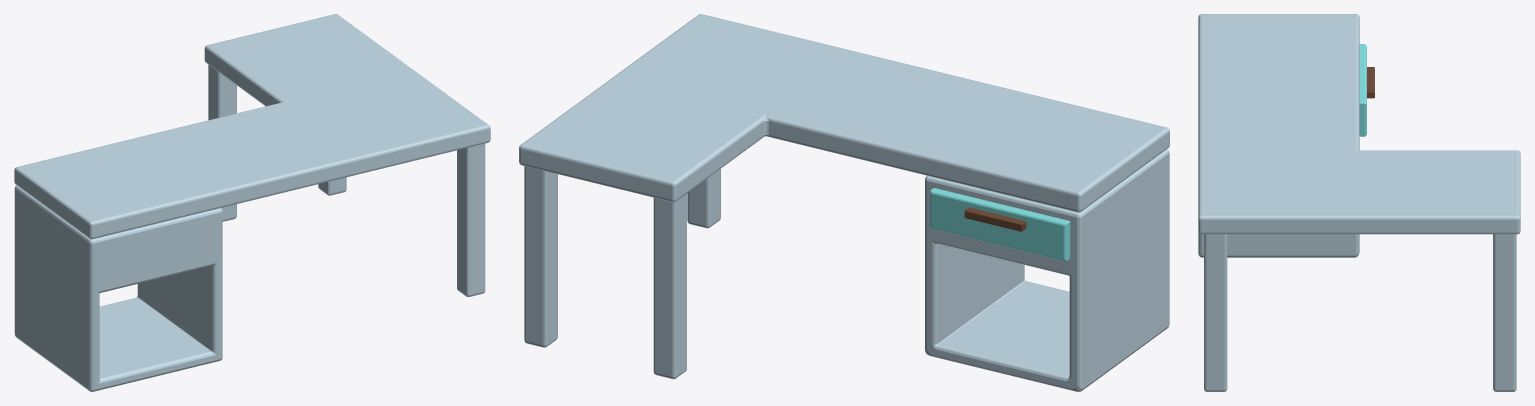
The model's file is Mesa L 1.fbx.
3 renders of one model, left to right at view 1: azimuth 30°, elevation 25°; view 2: azimuth 150°, elevation 25°; view 3: azimuth 270°, elevation 25°, orthographic. The views are drawn at different scales.
Parts seen in each view (by area): view 1: Mesa estudio.001; view 2: Mesa estudio.001; view 3: Mesa estudio.001.
Boxes of the visible parts, left/top/right/bottom form: Mesa estudio.001: left=14, top=14, right=490, bottom=391; Mesa estudio.001: left=519, top=14, right=1169, bottom=391; Mesa estudio.001: left=1198, top=14, right=1520, bottom=391.
Bounding box in the file's own units: 300 × 200 × 122.
